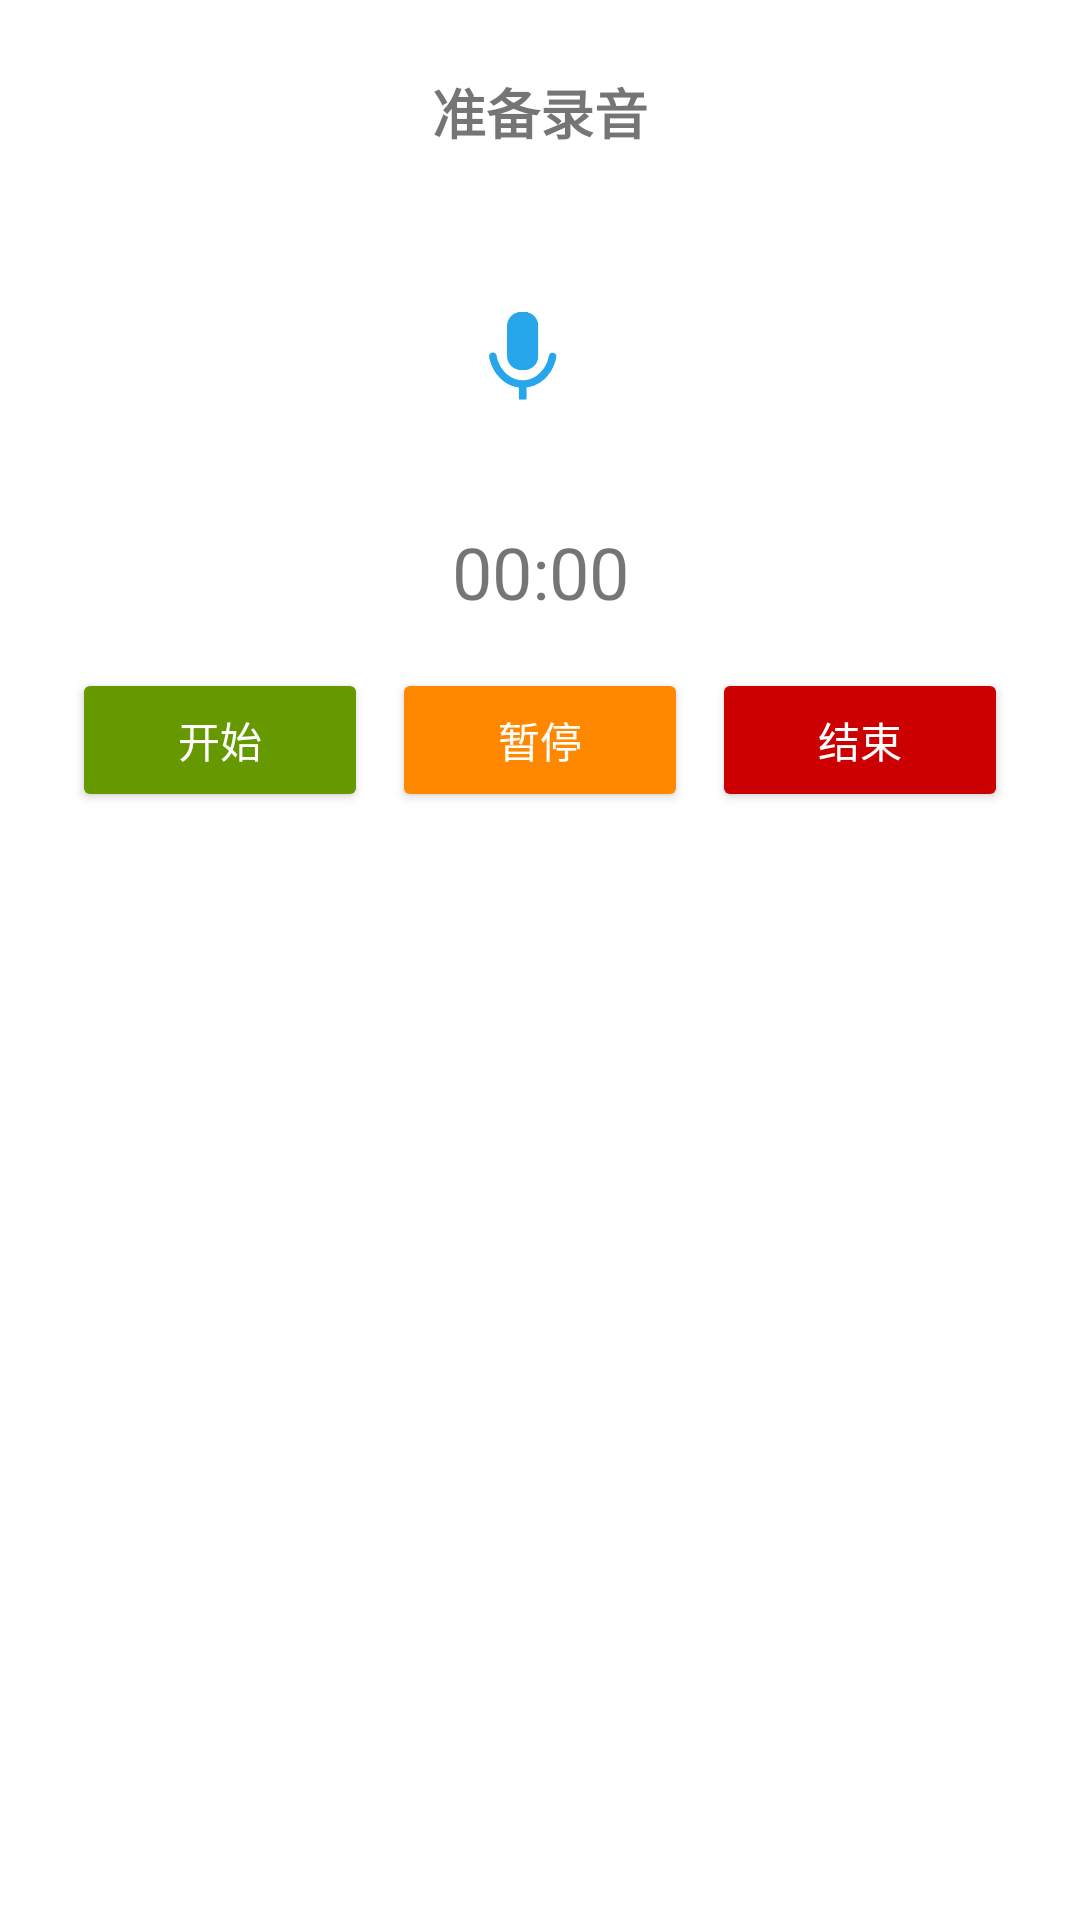

Screen size 1080*1920. Icon name, then its box in pixels as (x1, y1, x2, y2):
record: (489, 312, 557, 400)
